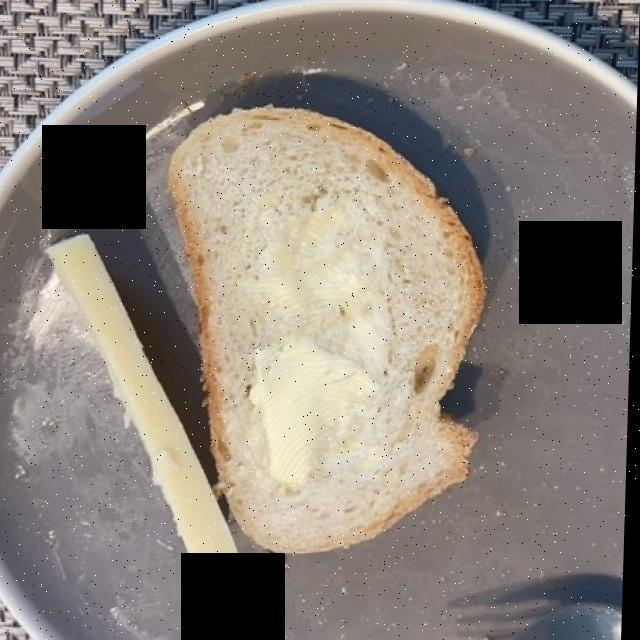bread: (182, 109, 492, 555)
butter: (228, 157, 401, 485)
gruyere: (37, 221, 240, 602)
